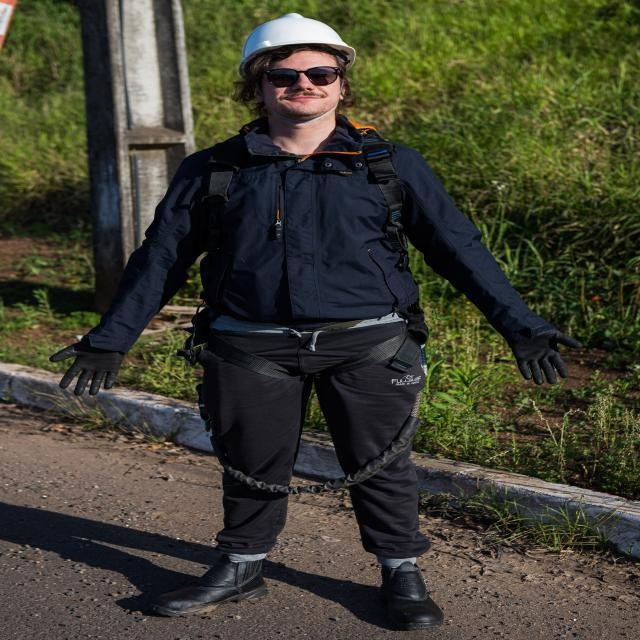Arnes_seguridad: (179, 120, 441, 395)
